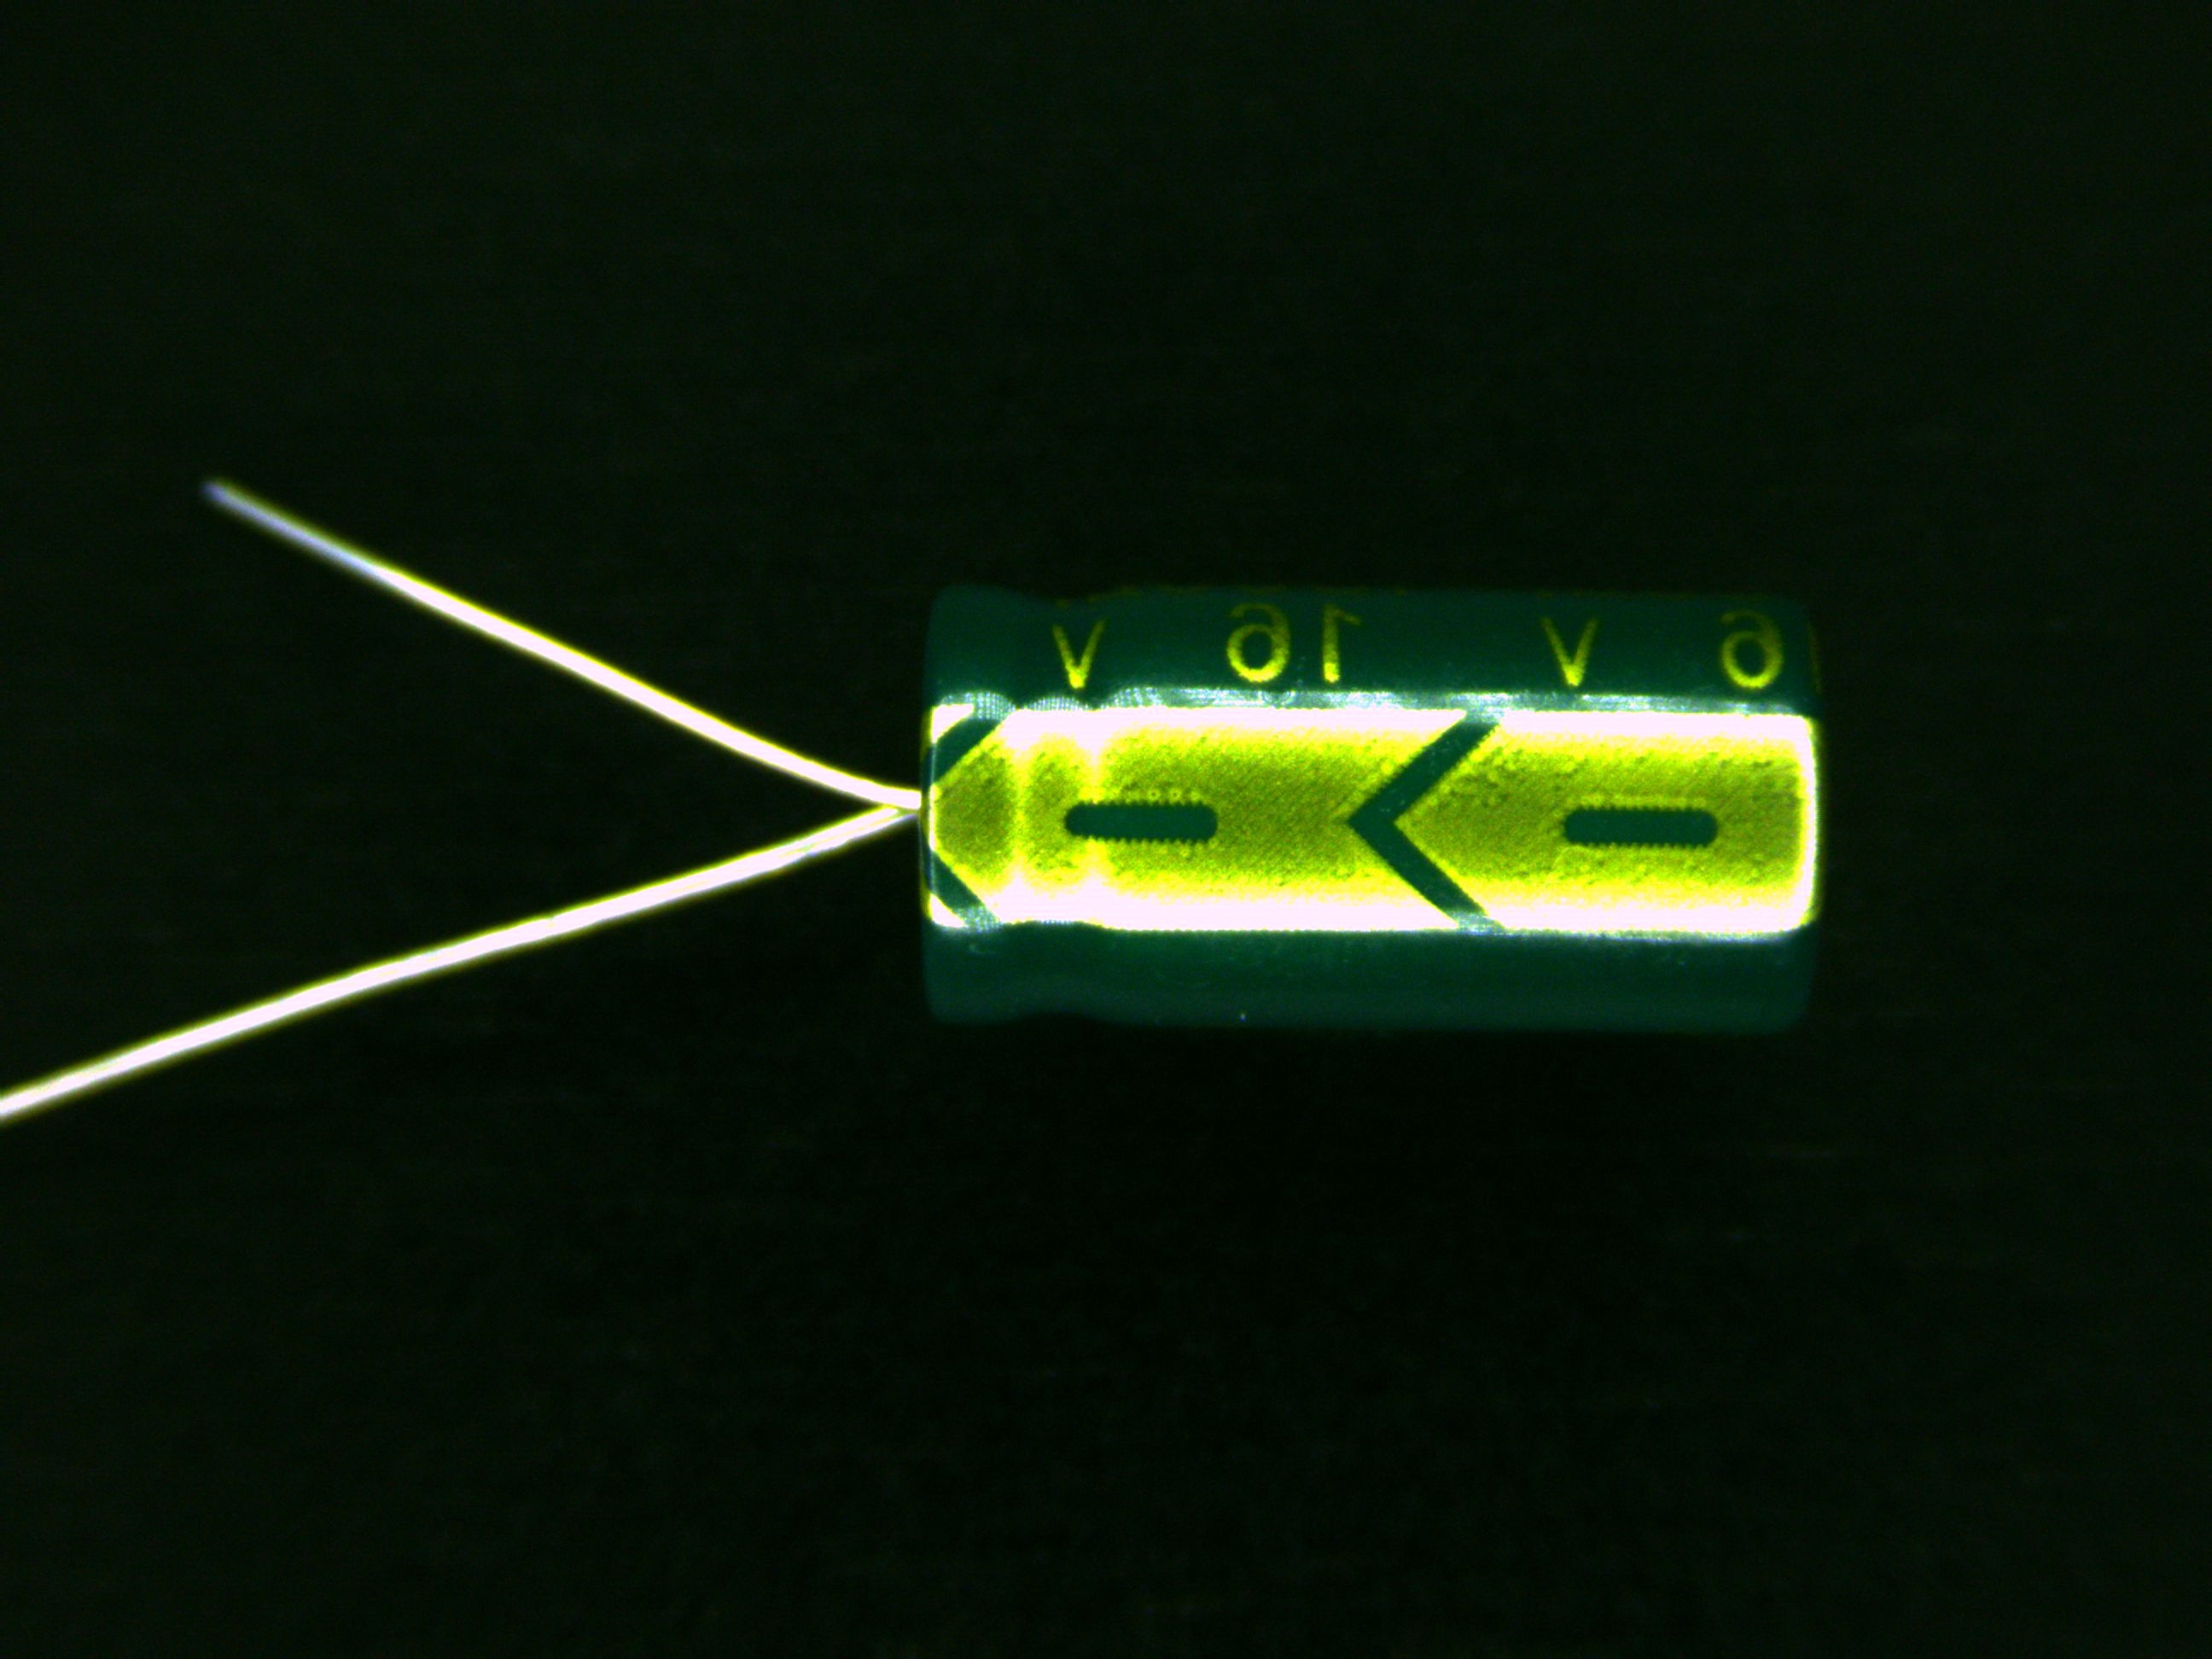c1: (676, 577, 1825, 1039)
